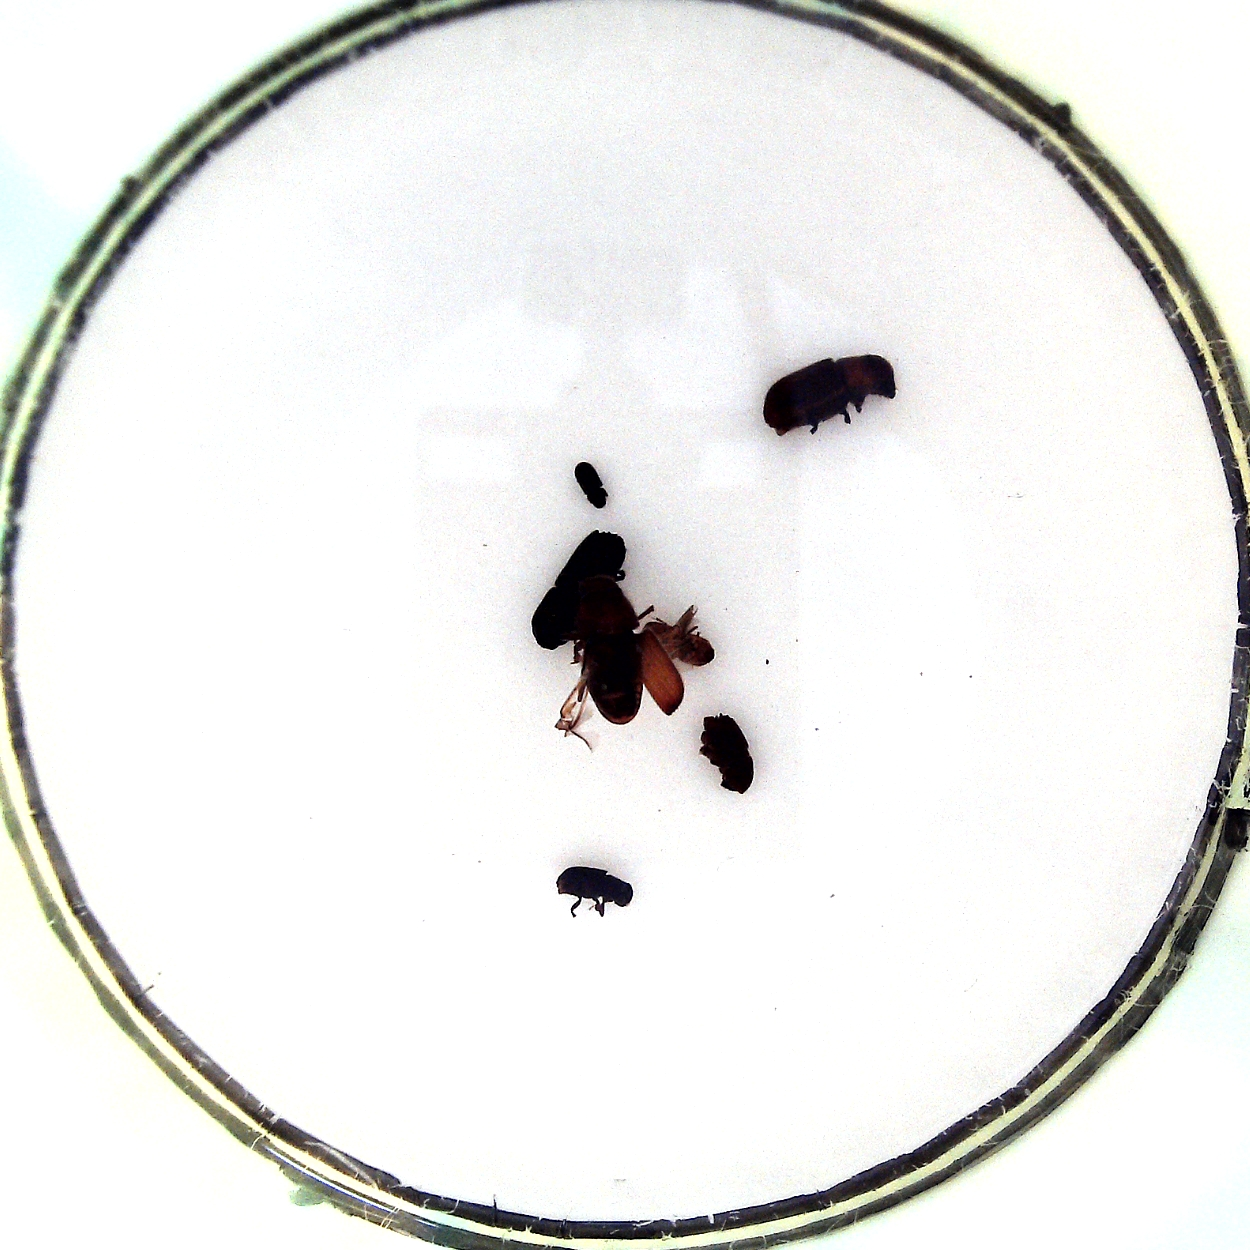Boerner: (528, 521, 623, 649)
Leconte: (559, 582, 690, 751), (758, 350, 897, 446)
Linnaeus: (695, 713, 761, 797)
armandi: (552, 860, 636, 921)
coleoptera: (573, 454, 611, 516)
